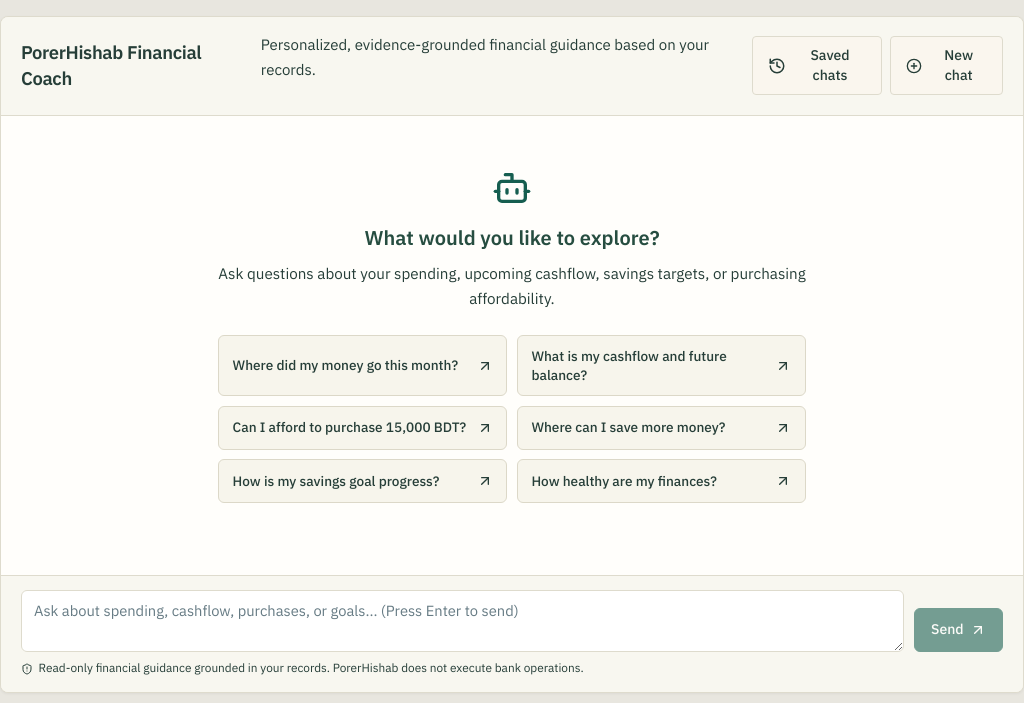
Test: FinancialCoach frontend component › loads conversations beyond the initial ten
Click the button "Saved chats" at [817, 66], box [752,36,882,95]
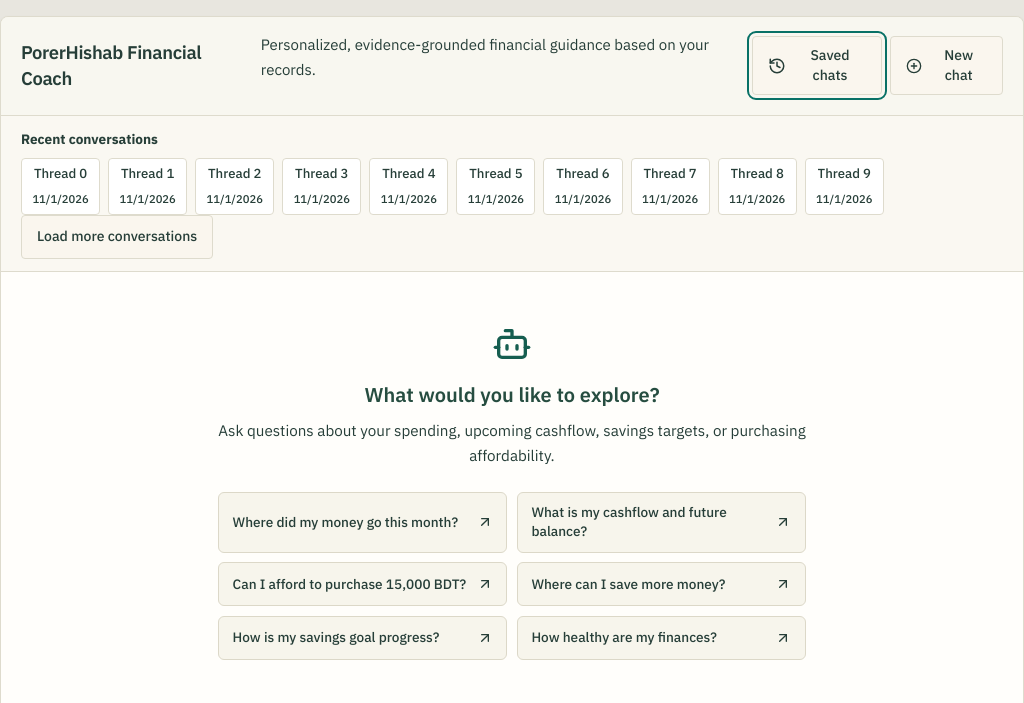
Click the button "Load more conversations" at [117, 237], box [21,215,213,259]
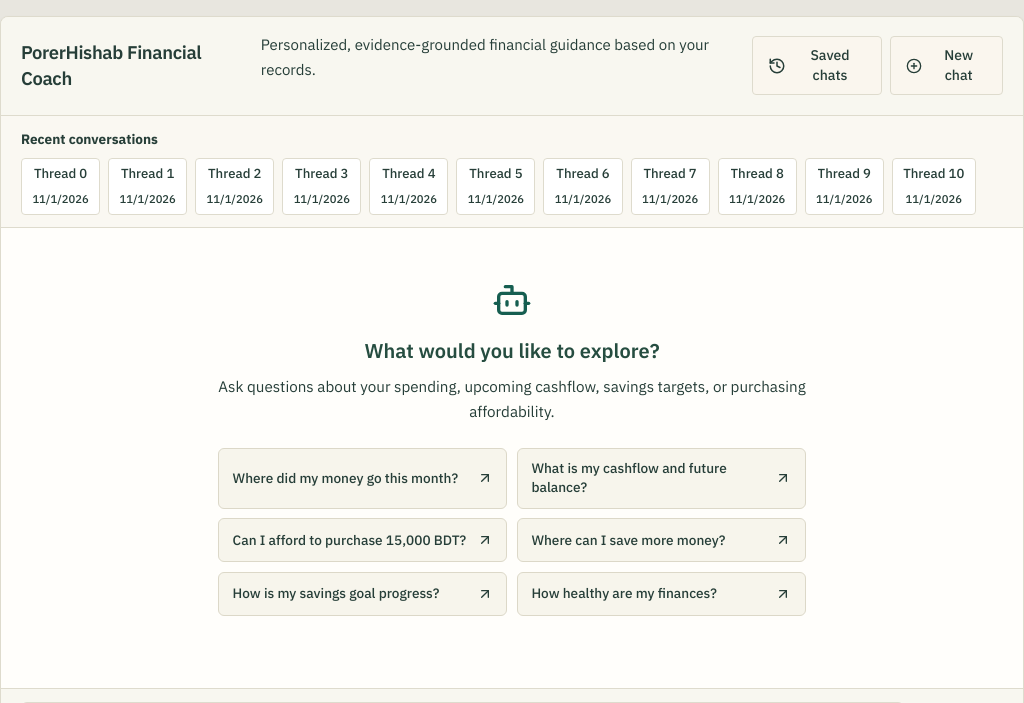
Result: the text "Thread 10" is shown at [903,165,964,184]
